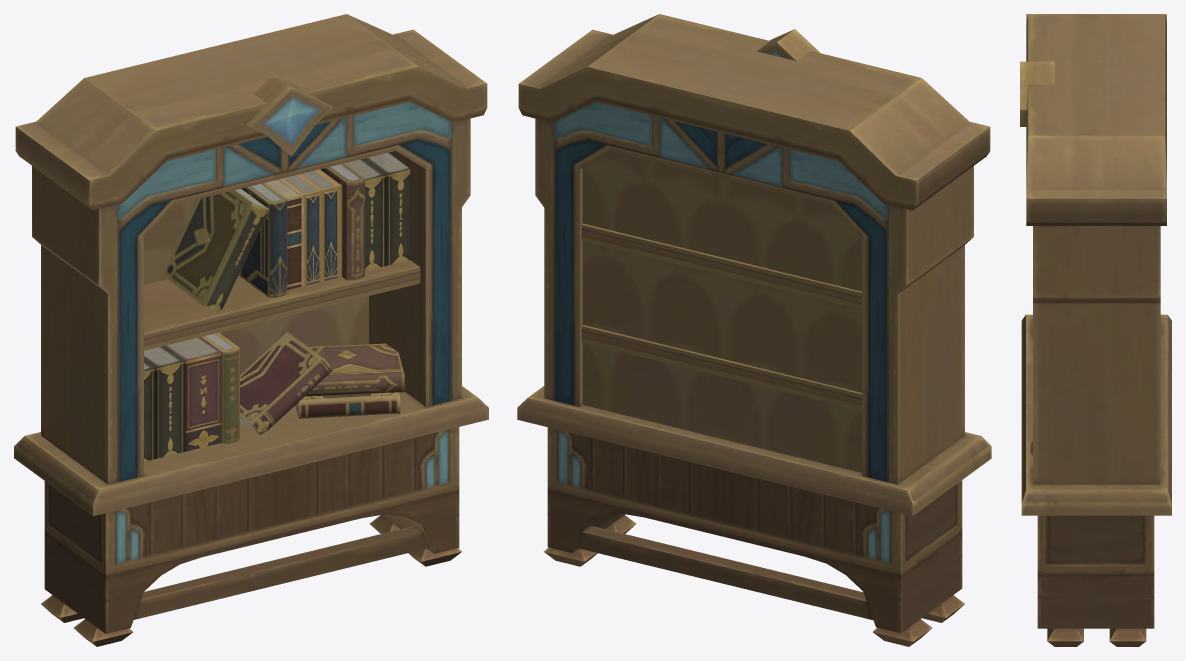
The model's file is Homeworld_Interior_Fd_Cabinet_Prop_Shujia_03_Vo.fbx.
3 views of the same model, side by side, from view 1: azimuth 30°, elevation 25°; view 2: azimuth 150°, elevation 25°; view 3: azimuth 270°, elevation 25° (orthographic). The views are drawn at different scales.
Parts seen in each view (by area): view 1: Indoor_Fd_Prop_Cabinet_A_04_Vo; view 2: Indoor_Fd_Prop_Cabinet_A_04_Vo; view 3: Indoor_Fd_Prop_Cabinet_A_04_Vo.
Boxes of the visible parts, x1,y1,x2,y2 form: Indoor_Fd_Prop_Cabinet_A_04_Vo: (14, 14, 488, 646); Indoor_Fd_Prop_Cabinet_A_04_Vo: (517, 14, 991, 646); Indoor_Fd_Prop_Cabinet_A_04_Vo: (1020, 14, 1171, 646).
Size of the model in its own units: 1.29 by 1.64 by 0.4499.
